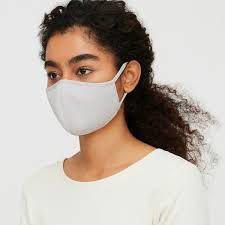with-mask: (35, 18, 141, 139)
